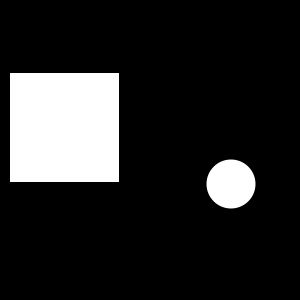circle: (10, 73, 119, 182)
rectangle: (206, 160, 256, 208)
